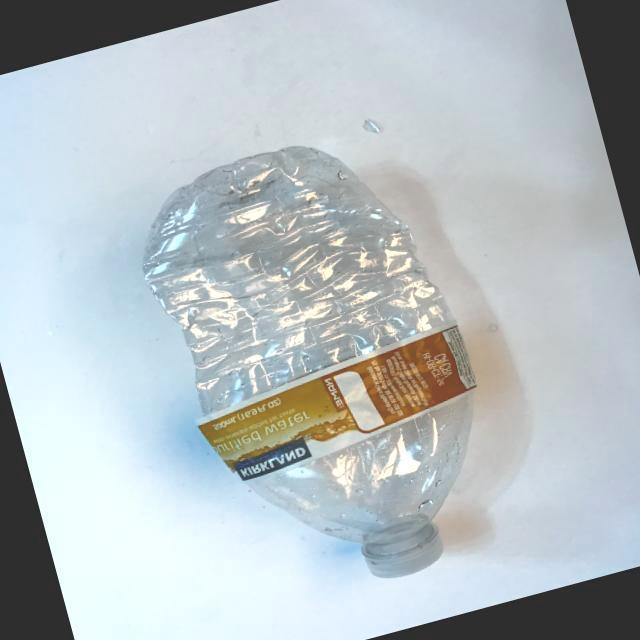plastic: (141, 145, 478, 580)
